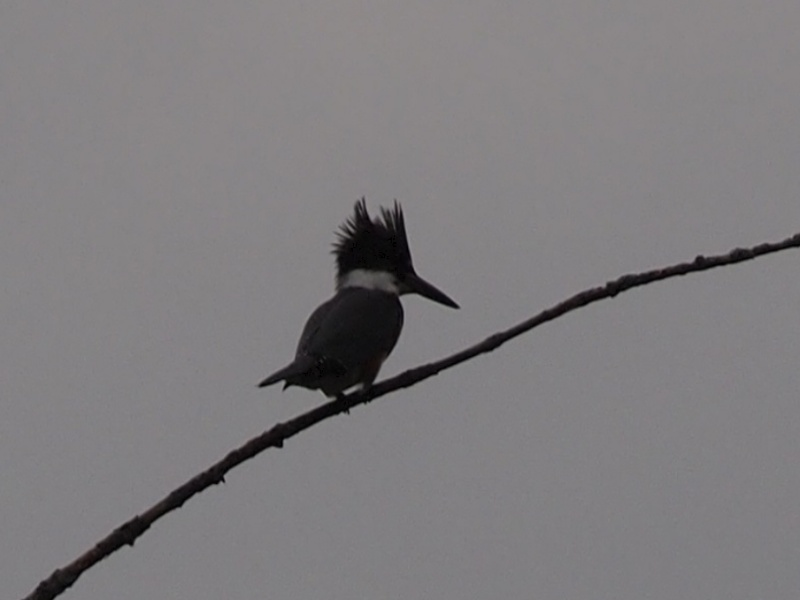kingfisher: (257, 192, 464, 404)
